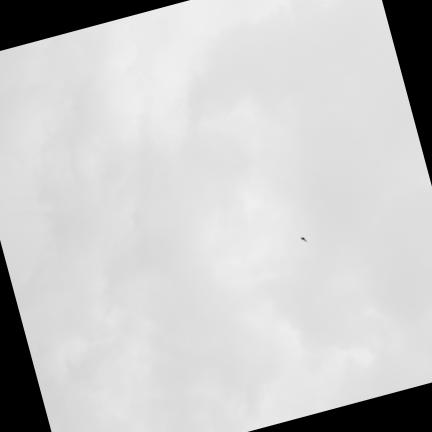Shahed: (299, 236, 307, 242)
